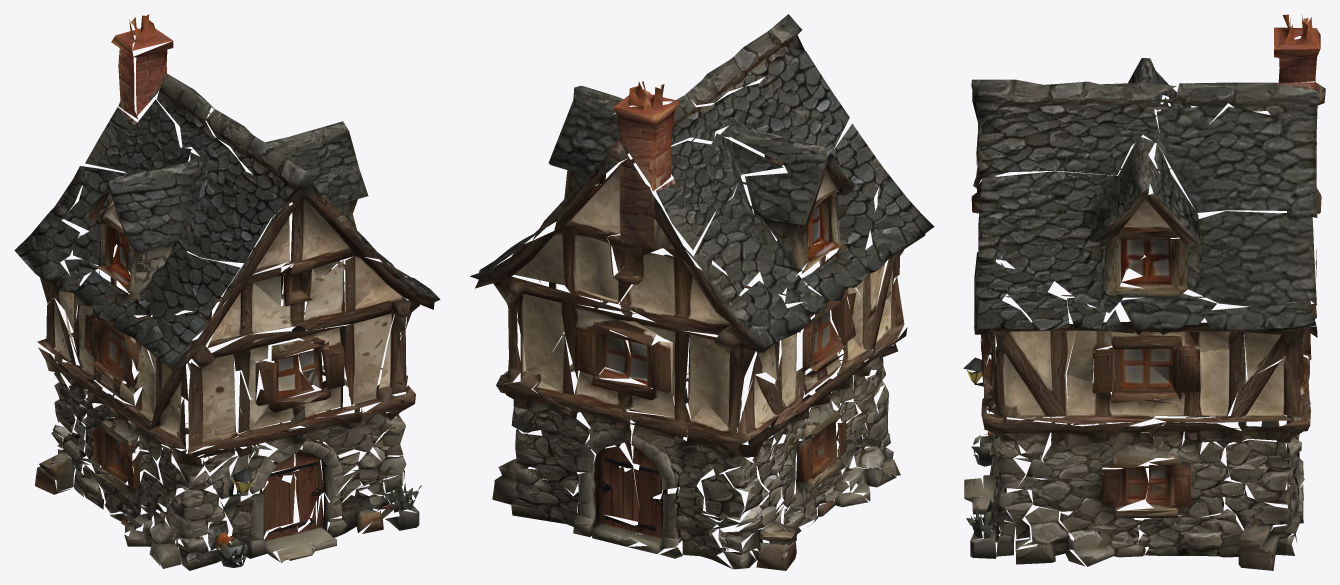
Rendered from house-a.glb.
3 views of the same model, side by side, from view 1: azimuth 30°, elevation 25°; view 2: azimuth 150°, elevation 25°; view 3: azimuth 270°, elevation 25° (orthographic). The views are drawn at different scales.
Size of the model in its own units: 0.6683 by 0.9807 by 0.6839.
Materials: 1 (1 with a texture image).
